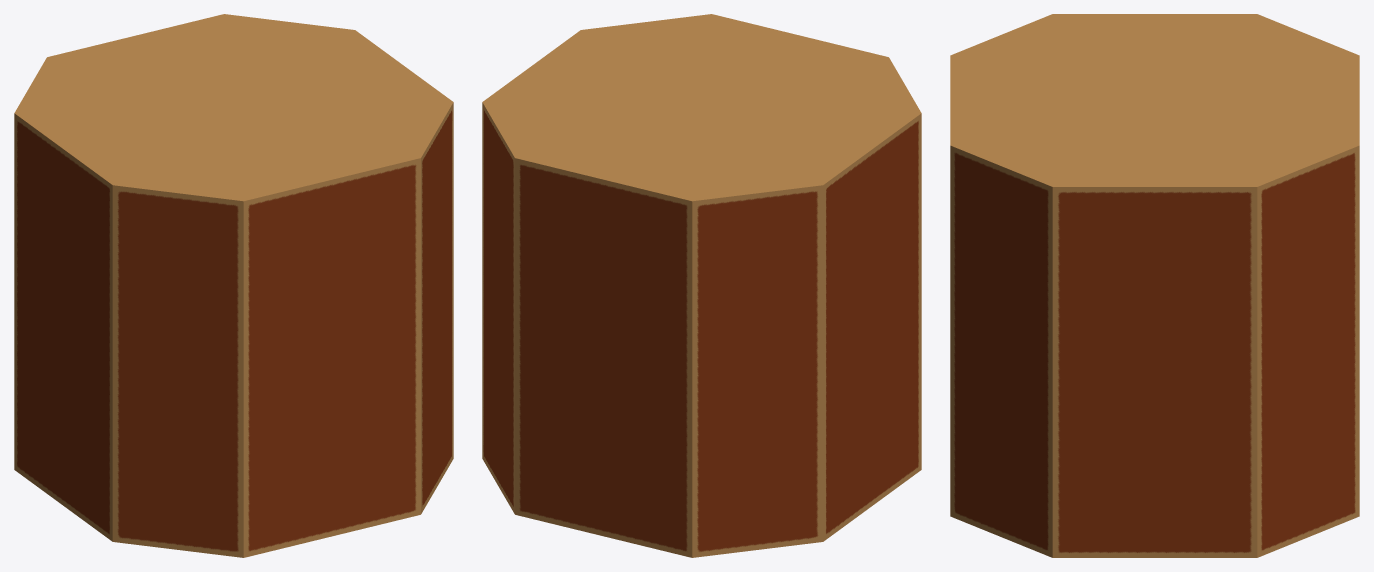
File: moveGround.obj
3 renders of one model, left to right at view 1: azimuth 30°, elevation 25°; view 2: azimuth 150°, elevation 25°; view 3: azimuth 270°, elevation 25°, orthographic. The views are drawn at different scales.
Parts seen in each view (by area): view 1: 立方体; view 2: 立方体; view 3: 立方体.
Part boxes in pixels (x1=…): 立方体: x1=14, y1=14, x2=453, y2=557; 立方体: x1=482, y1=14, x2=921, y2=557; 立方体: x1=950, y1=14, x2=1359, y2=557.
Bounding box in the file's own units: 2 × 2 × 2.
